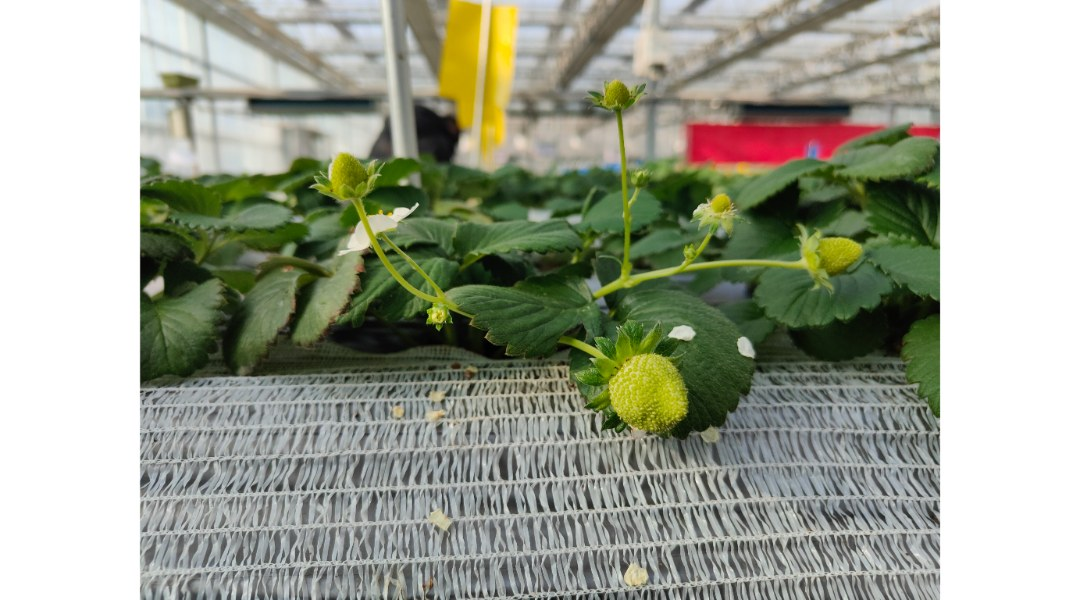berry: (582, 332, 706, 457), (787, 219, 874, 299), (308, 150, 394, 200), (581, 65, 652, 123), (689, 190, 749, 228)
flower: (336, 193, 415, 251)
strain: (603, 117, 636, 277), (691, 251, 812, 283)
